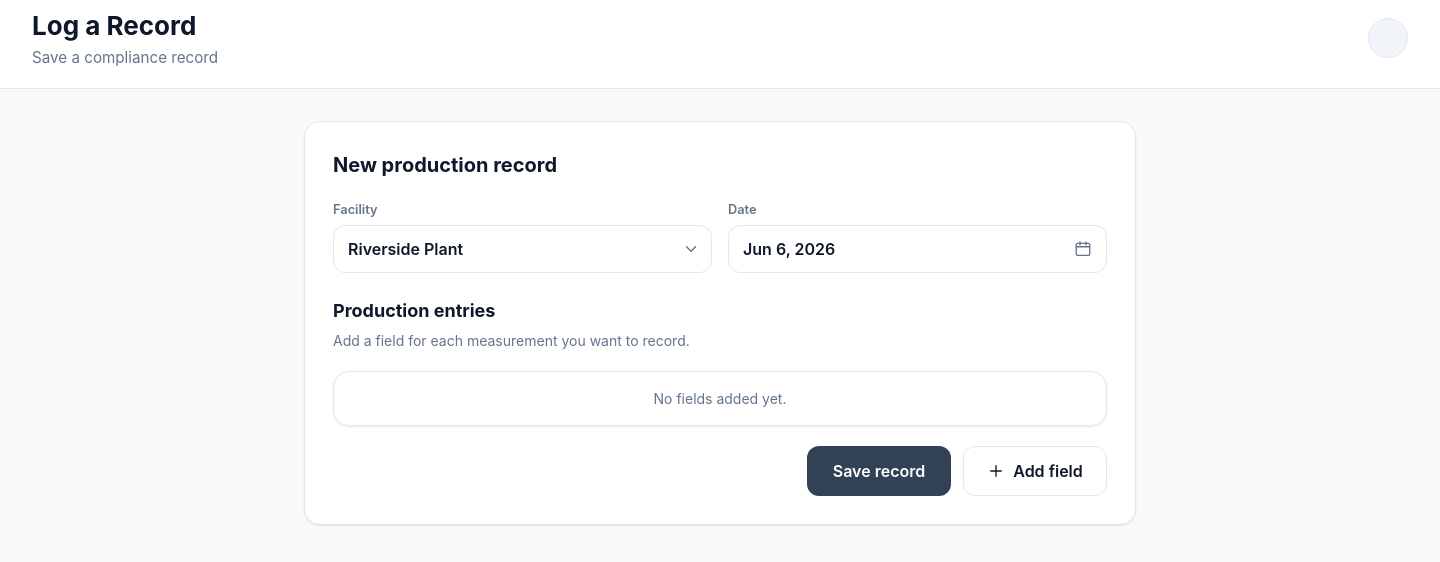
Test case: LogRecordScreen — production entries › starts with no pre-filled entries; the user adds the fields they want
The width and height of the screenshot is (1440, 562).
Expected: the button with aria-label "Facility" reads "Riverside Plant", [333,225,712,273]
Click the button "Add field". click: (1035, 471)
box: [963,446,1107,496]
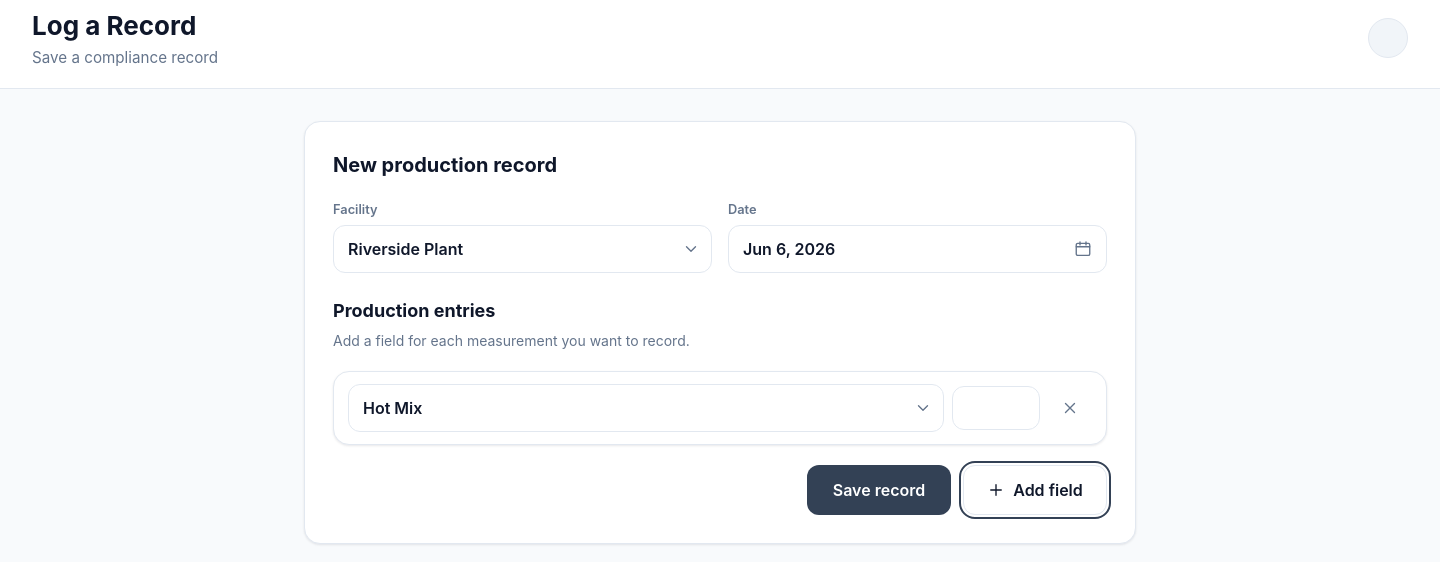
Expected: the button with aria-label "Field" reads "Hot Mix", [348,384,944,432]
